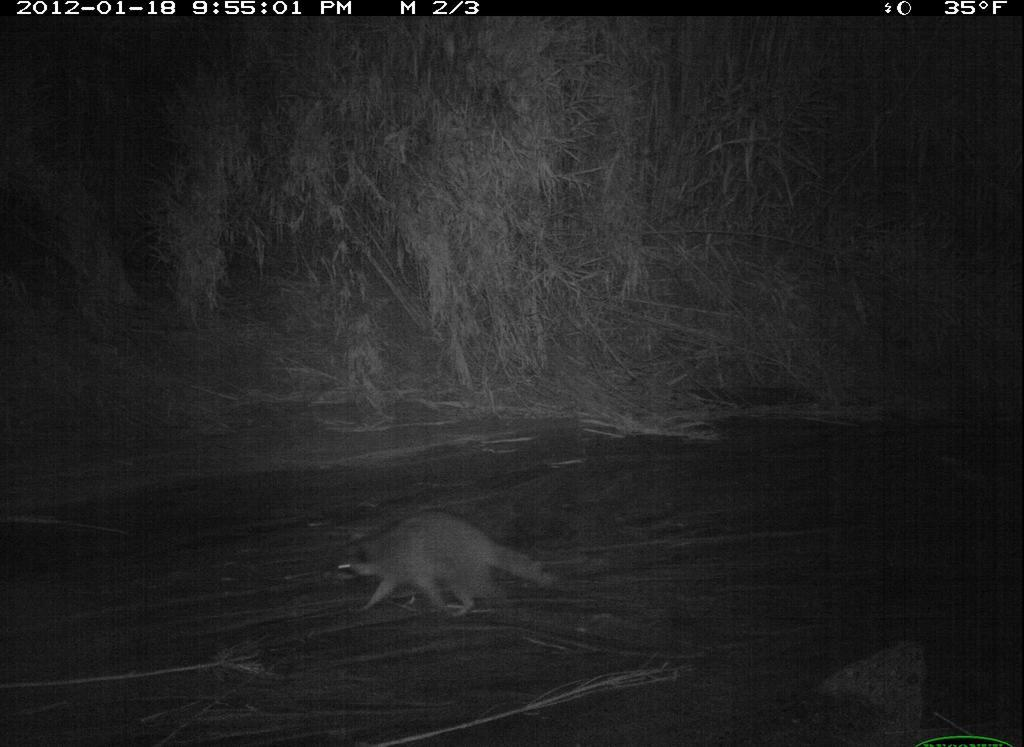raccoon: (321, 506, 566, 632)
